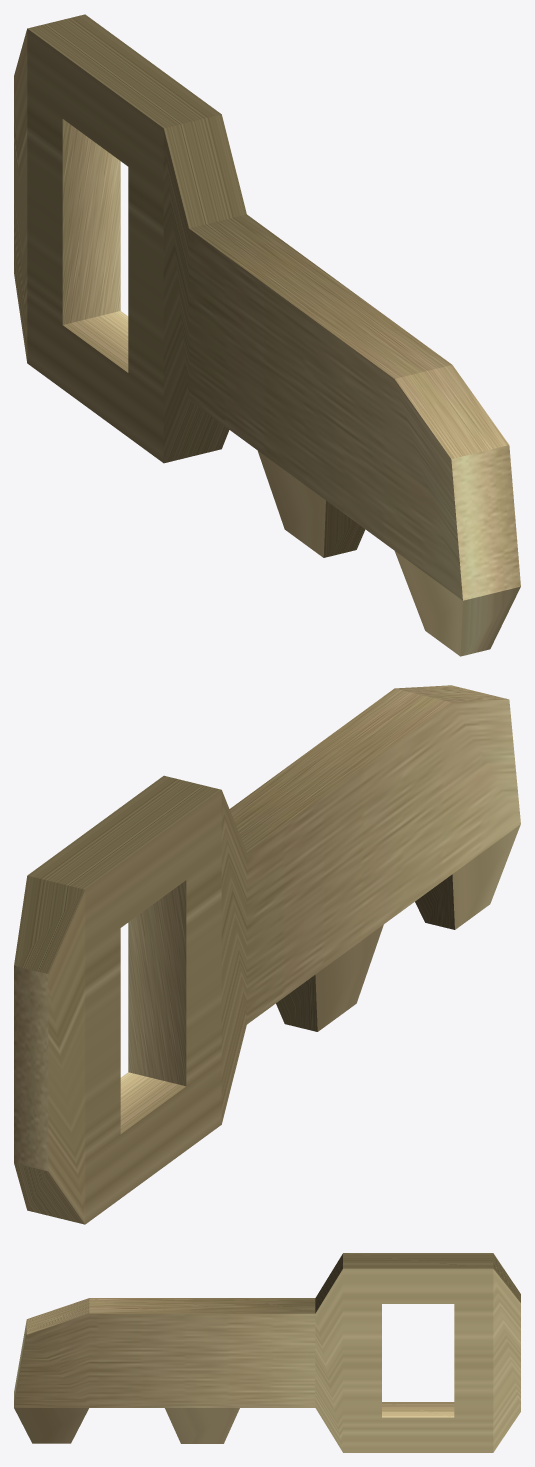
File: Key.fbx
The picture shows the model from 3 angles, top to bottom: view 1: azimuth 30°, elevation 25°; view 2: azimuth 150°, elevation 25°; view 3: azimuth 270°, elevation 25°; orthographic projection. The views are drawn at different scales.
Visible parts, largest first — view 1: Cube; view 2: Cube; view 3: Cube.
Boxes of the visible parts, x1,y1,x2,y2 form: Cube: (14, 14, 520, 656); Cube: (14, 685, 520, 1224); Cube: (14, 1253, 520, 1452).
Size of the model in its own units: 70.71 by 390 by 974.
Materials: 1 (1 with a texture image).
